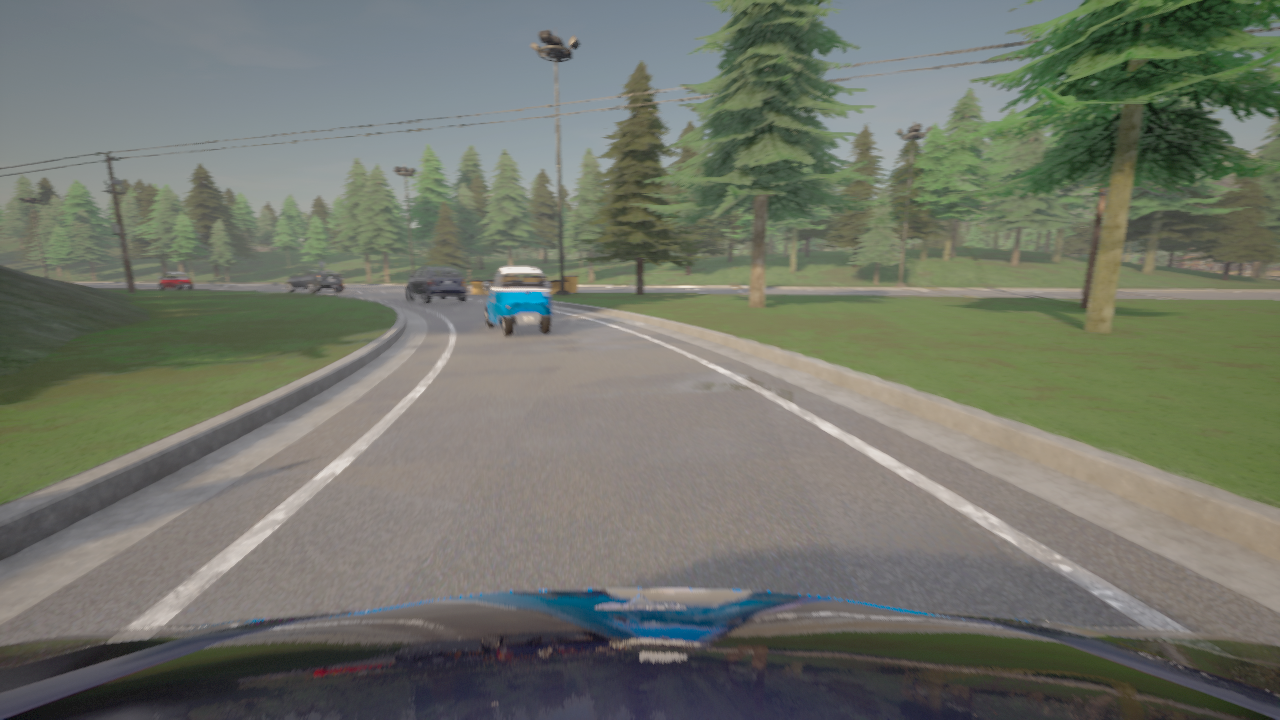cyclist: (0, 588, 1279, 719), (483, 266, 552, 335), (406, 265, 467, 302), (285, 269, 343, 292), (159, 272, 192, 289)
